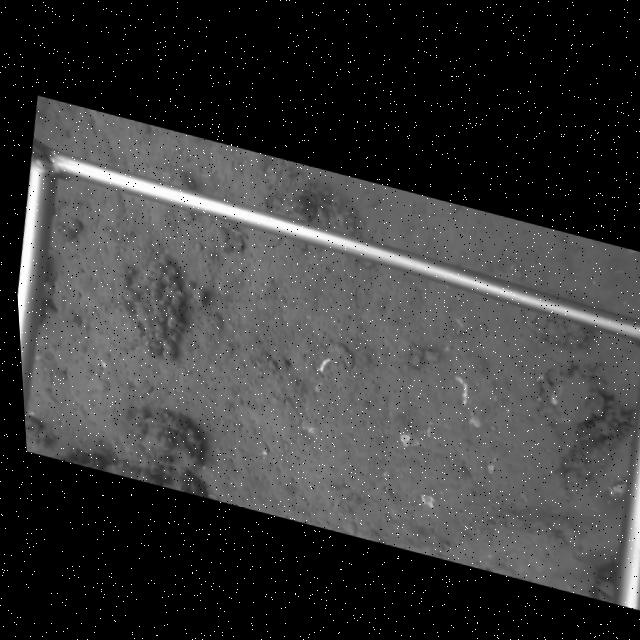Oyster-Indeterminate: (538, 372, 608, 425)
